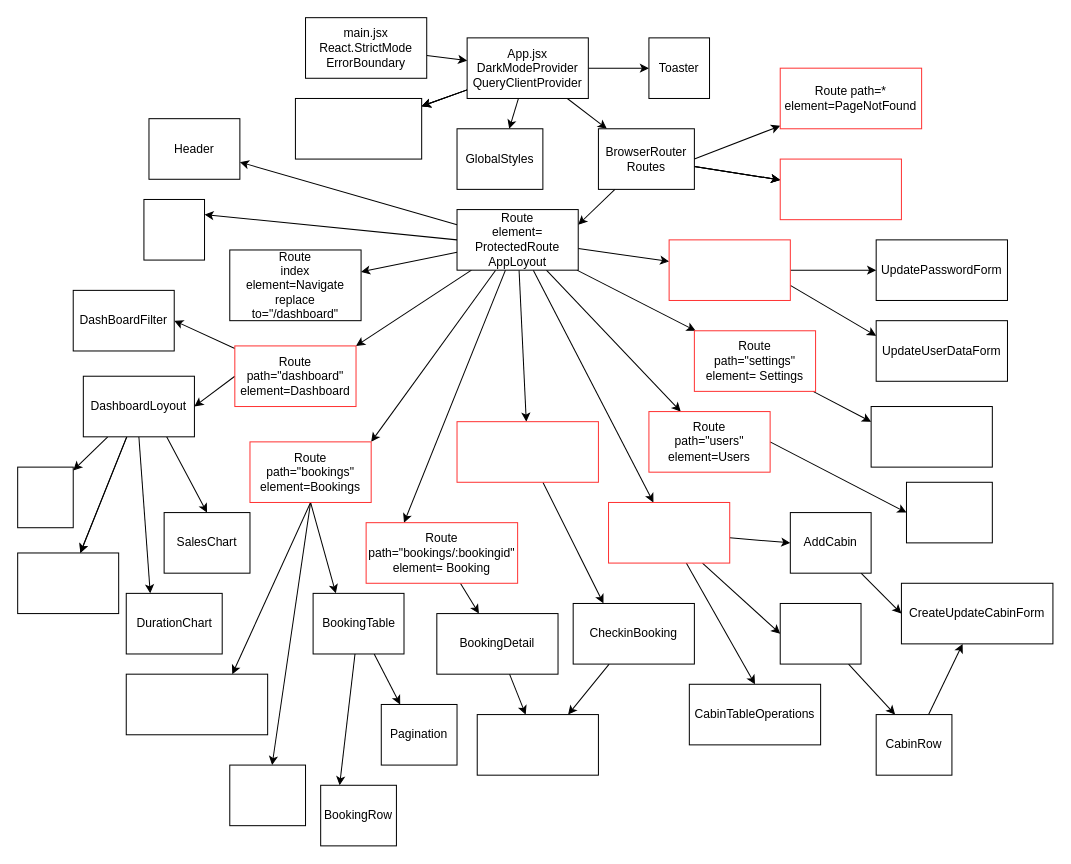
Some shapes in this 1071 by 864 pixel diagram are drawn without their labels. The centre of each missing label's shape, as x and y in pixels:
AddBooking: pixel 267 795
BookingDataBox: pixel 537 744
BookingTableOperations: pixel 196 704
CabinTable: pixel 820 633
ReactQueryDevTools: pixel 358 128
Route path="account" element=Account: pixel 729 269
Route path="cabins" element=Cabins: pixel 669 532
Route path="checkin/:bookingId element=Checkin: pixel 527 451
Route path=login element=Login: pixel 840 189
Sidebar: pixel 174 229
SignUpForm: pixel 948 512
Stats: pixel 45 497
TodaysActivity: pixel 68 583
UpdateSetingsForm: pixel 931 436
